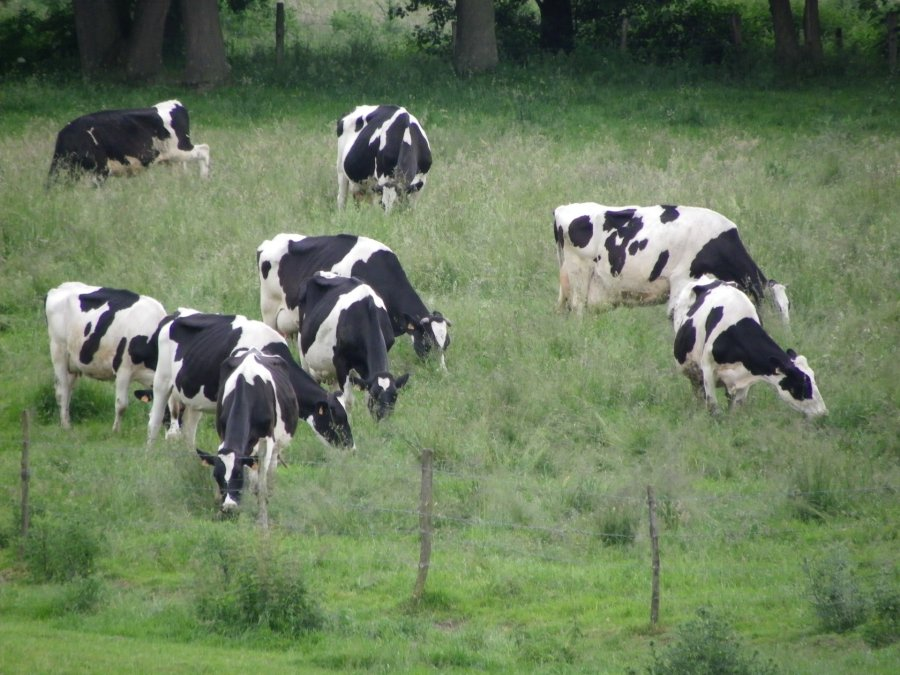cow: (34, 278, 163, 401), (680, 194, 800, 319), (41, 104, 221, 180), (326, 107, 443, 217), (733, 326, 847, 424), (379, 269, 465, 380), (189, 443, 283, 525), (344, 320, 418, 415), (304, 373, 362, 456)
